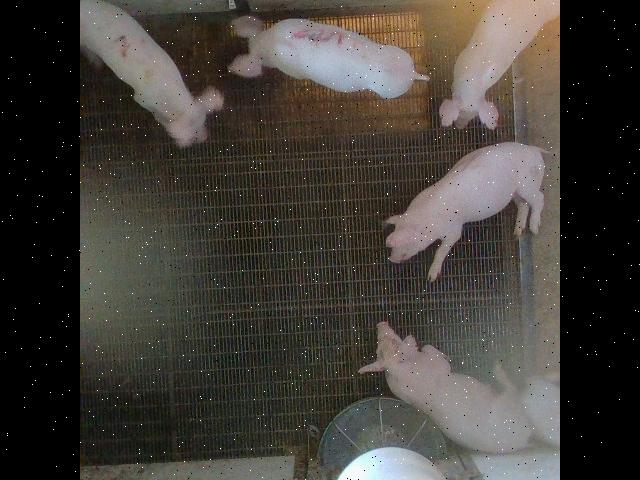pig-1: (386, 141, 544, 280)
pig-3: (229, 15, 428, 98)
